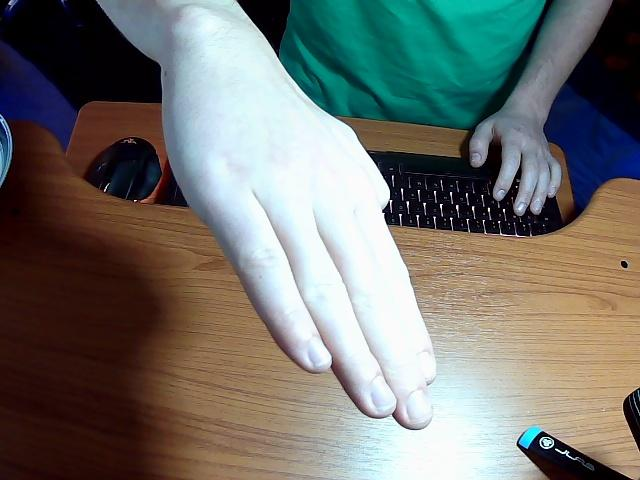paper: (102, 0, 435, 428)
